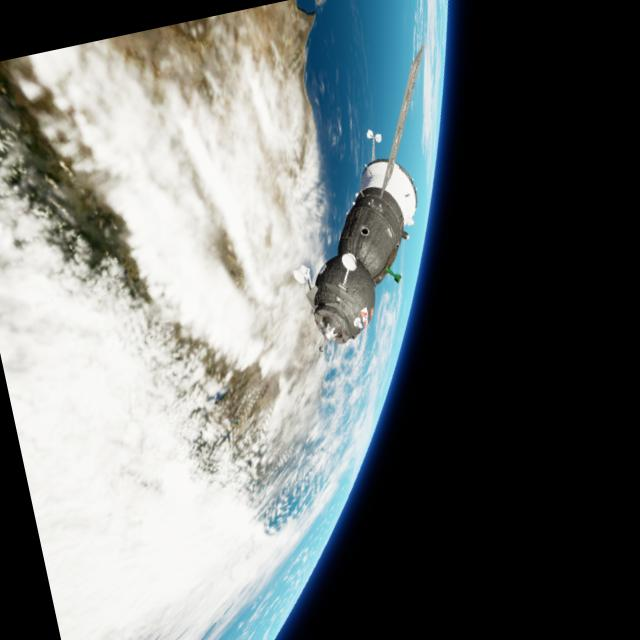Satellites revolving around earth: (0, 0, 582, 640), (250, 41, 483, 355)
